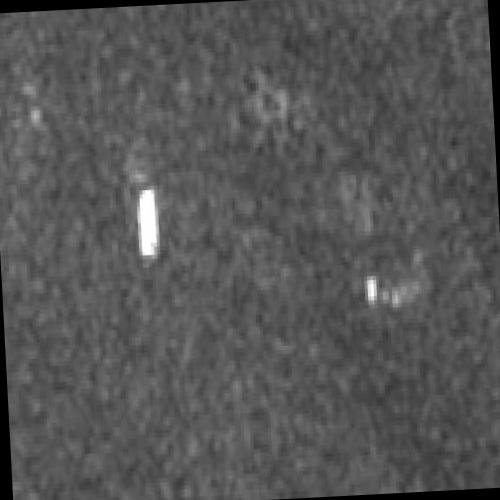ship: (136, 186, 160, 258)
